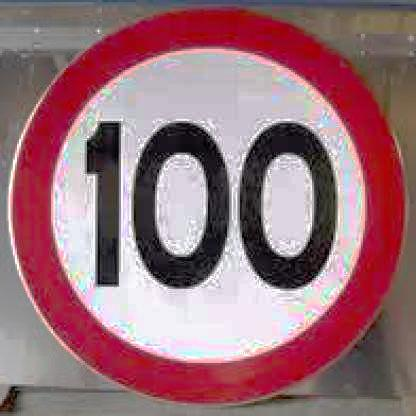Speed Limit -100-: (10, 5, 408, 406)
